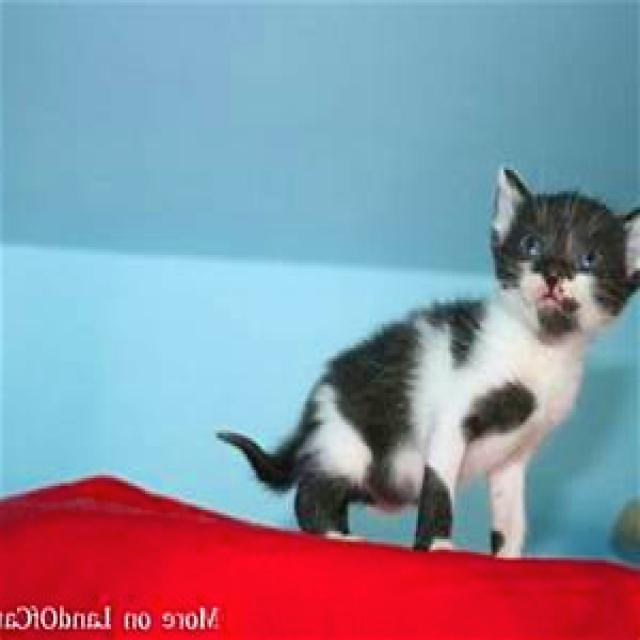KEDI: (219, 156, 640, 552)
